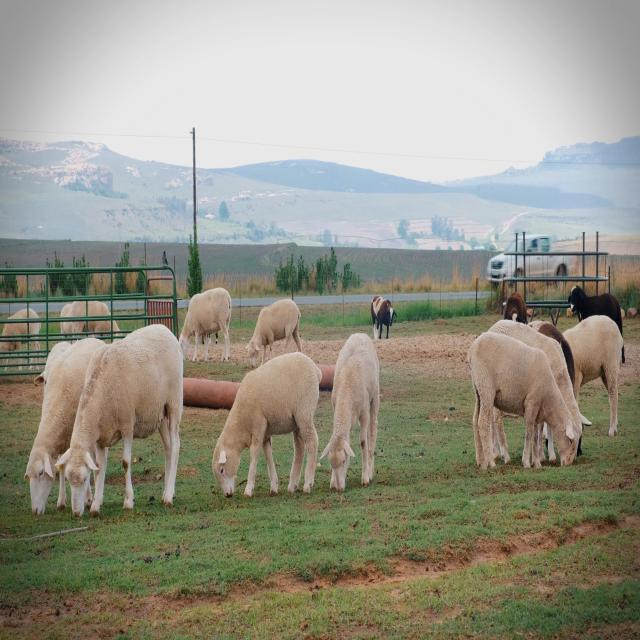sheep: (54, 317, 188, 525), (209, 335, 326, 524), (461, 331, 581, 489), (320, 324, 401, 502), (17, 356, 56, 526), (247, 292, 310, 376)
